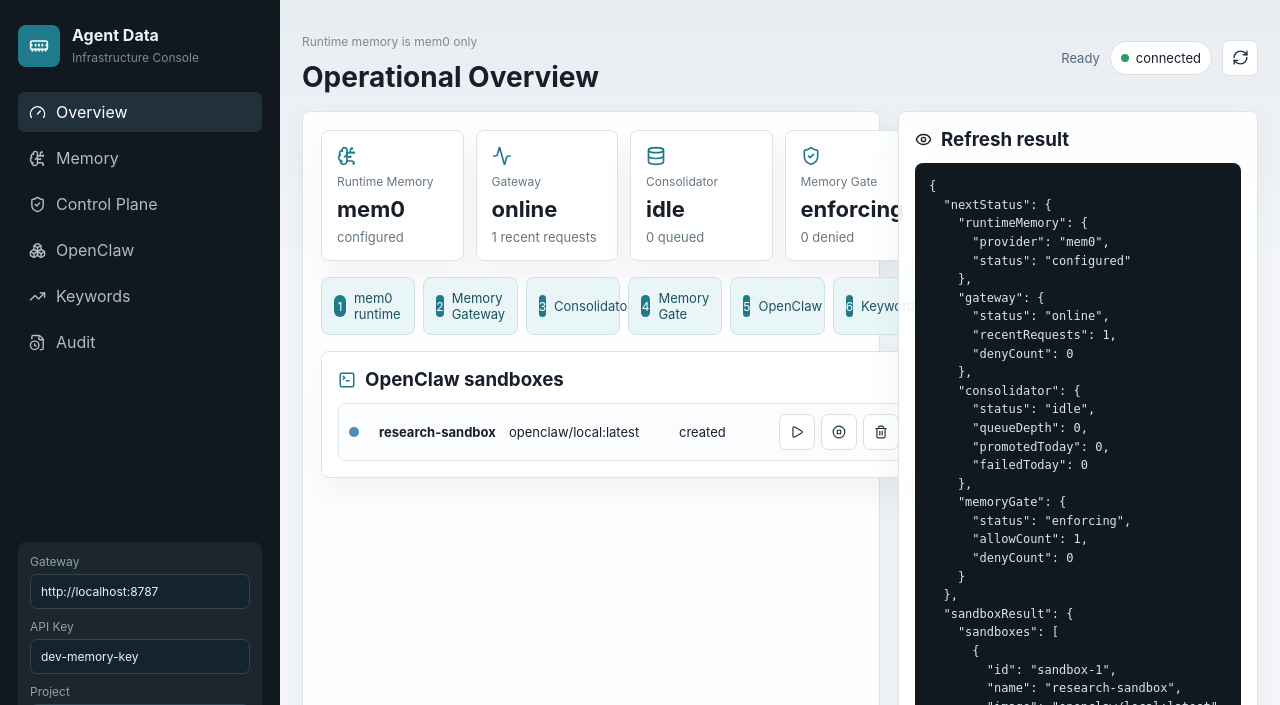
Test: App › runs a real gateway health check from the control plane
This screenshot has width=1280, height=705.
Click the button "Control Plane".
click(140, 204)  # box [18,184,262,224]
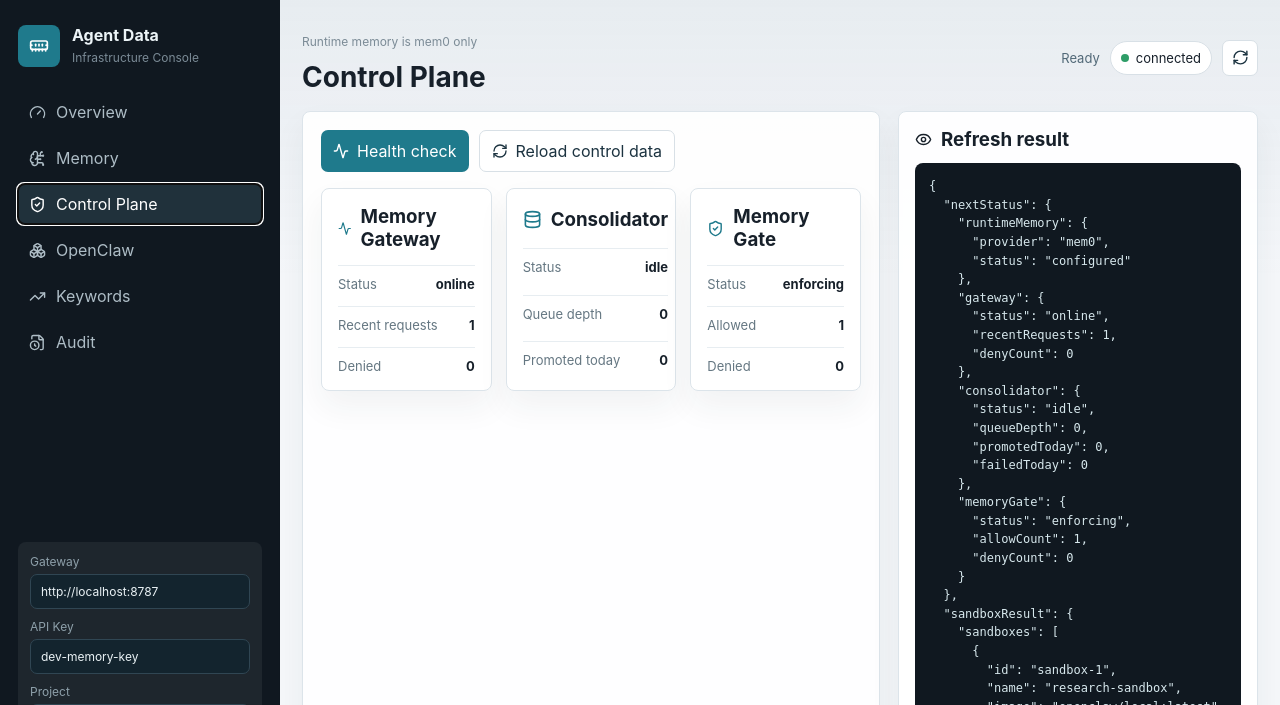
Click the button "Health check".
click(395, 151)  # box [321,130,468,172]
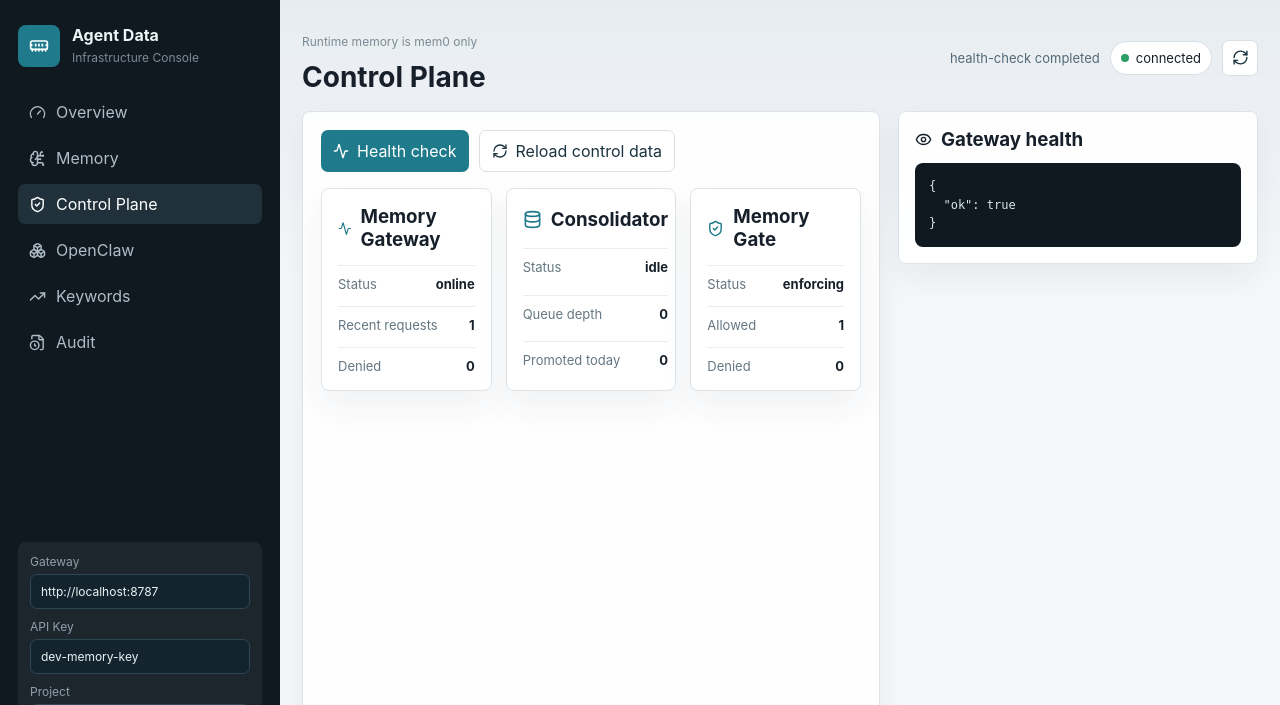
expect the heading "Gateway health" is shown: met, box [941,128,1083,151]
